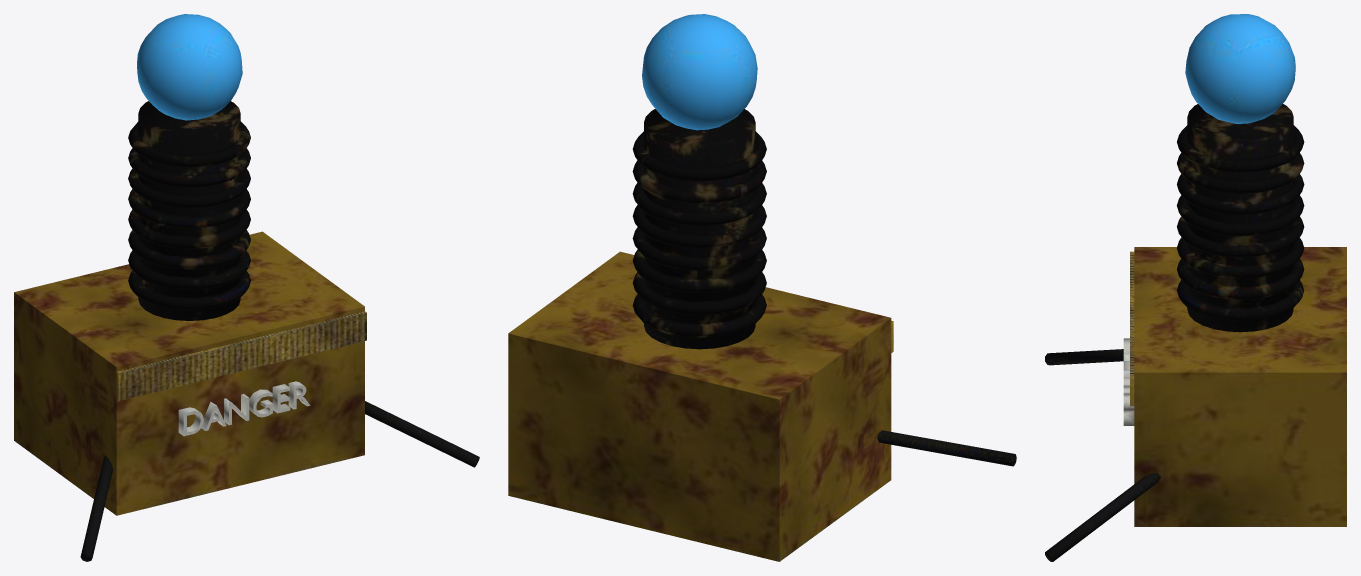
Rendered from generator.glb.
3 views of the same model, side by side, from view 1: azimuth 30°, elevation 25°; view 2: azimuth 150°, elevation 25°; view 3: azimuth 270°, elevation 25° (orthographic). The views are drawn at different scales.
Visible parts, largest first — view 1: Main; view 2: Main; view 3: Main.
Part boxes in pixels (x1,y1,x2,y2): Main: (14,14,479,561); Main: (508,14,1016,561); Main: (1045,14,1346,561).
Bounding box in the file's own units: 2.25 × 2.31 × 1.42.
Materials: 1 (1 with a texture image).
